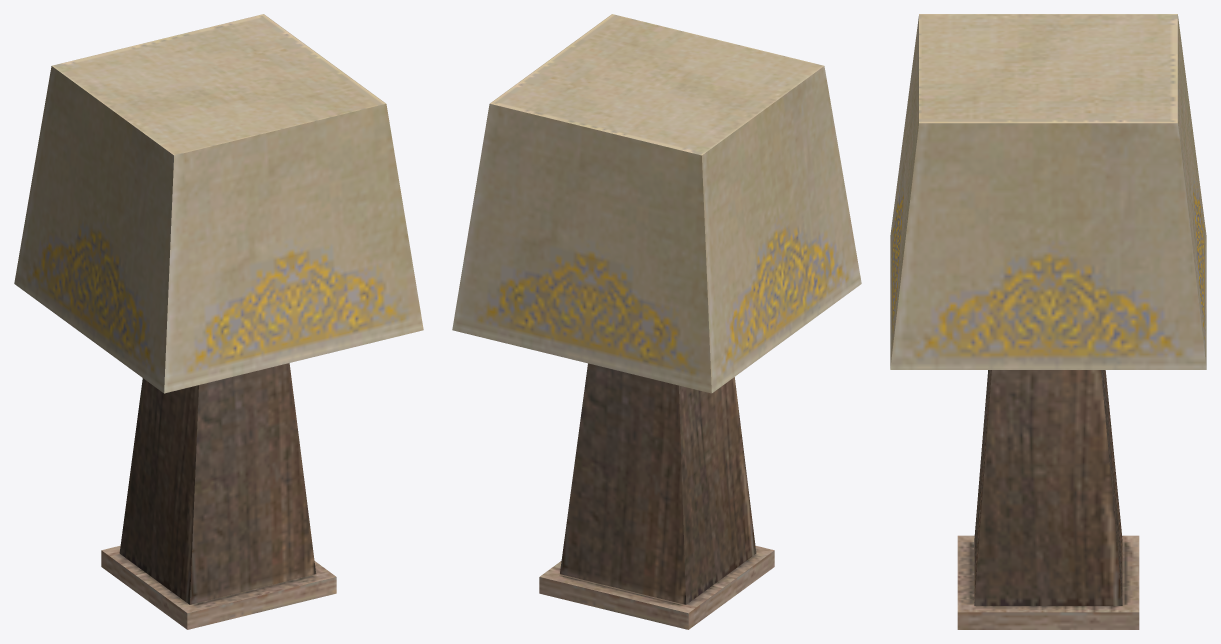
Rendered from Prop_Light1.glb.
The picture shows the model from 3 angles, left to right: view 1: azimuth 30°, elevation 25°; view 2: azimuth 150°, elevation 25°; view 3: azimuth 270°, elevation 25°; orthographic projection. The views are drawn at different scales.
Visible parts, largest first — view 1: xiutz_light1; view 2: xiutz_light1; view 3: xiutz_light1.
Boxes of the visible parts, x1,y1,x2,y2 form: xiutz_light1: [14, 14, 423, 629]; xiutz_light1: [452, 14, 861, 629]; xiutz_light1: [890, 14, 1206, 629].
Size of the model in its own units: 0.522 by 0.9519 by 0.522.
1 material, 1 textured.
